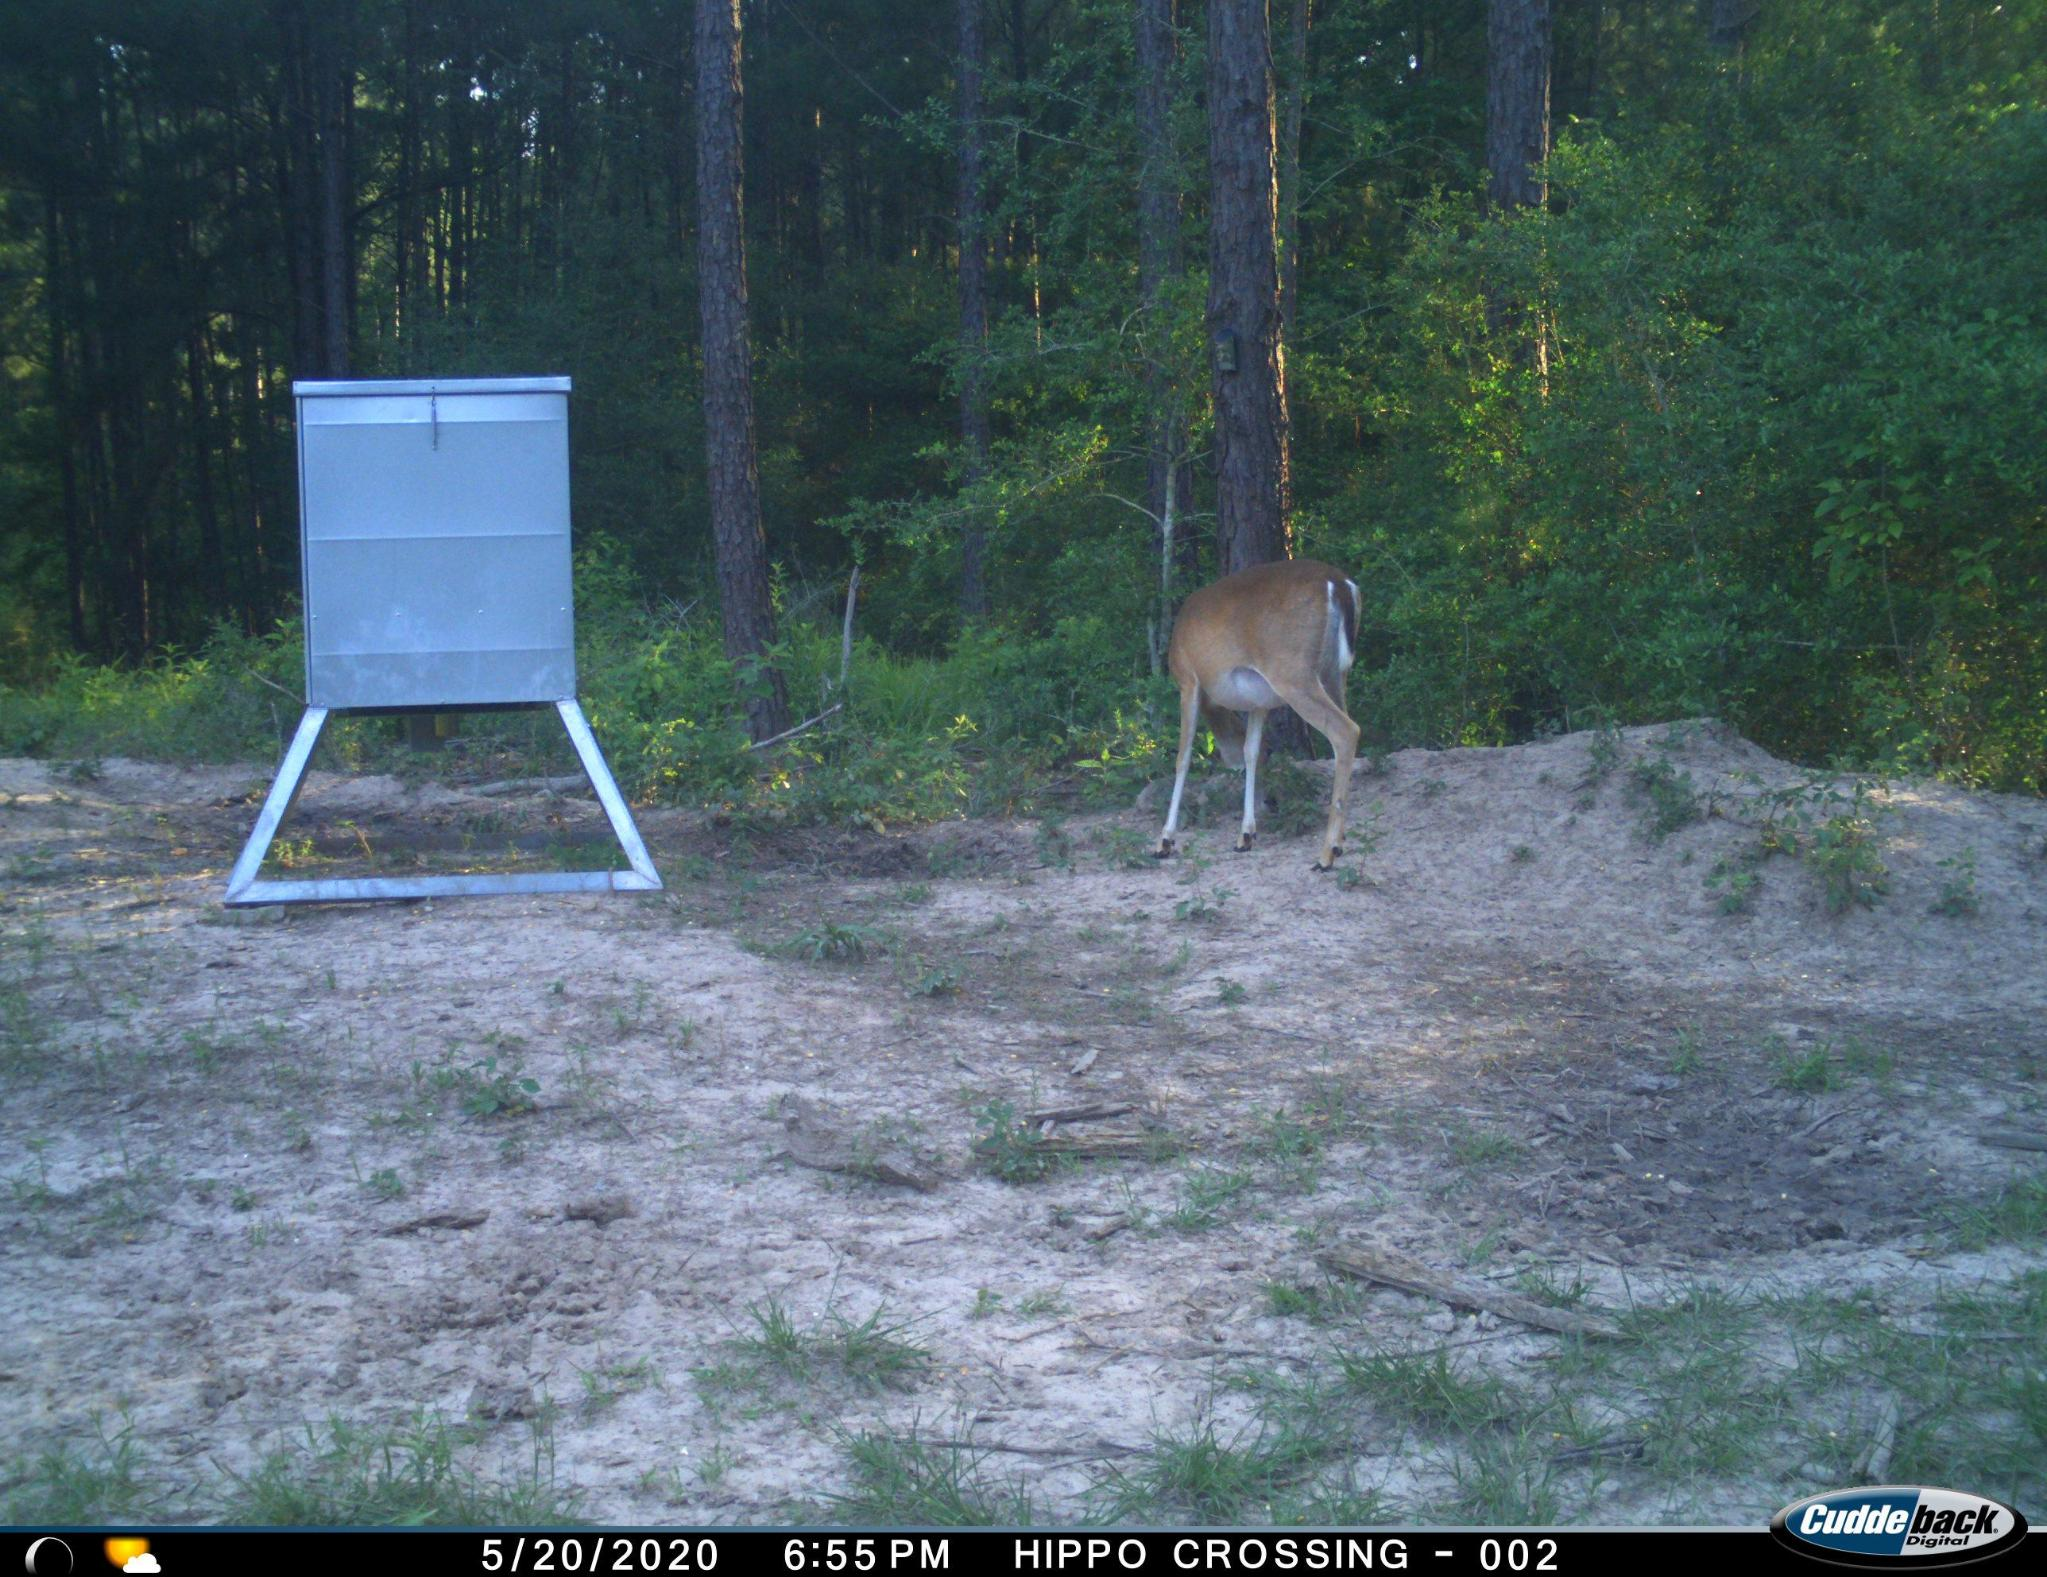Deer: (1148, 550, 1385, 888)
